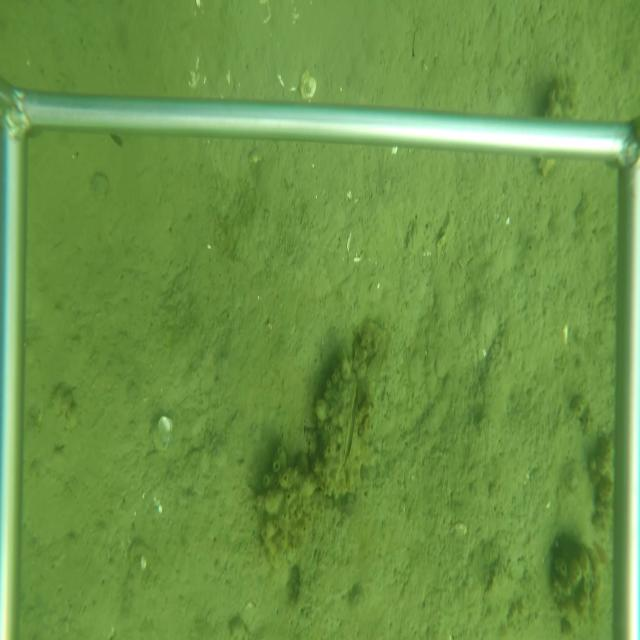Oyster-Closed: (321, 370, 361, 480)
